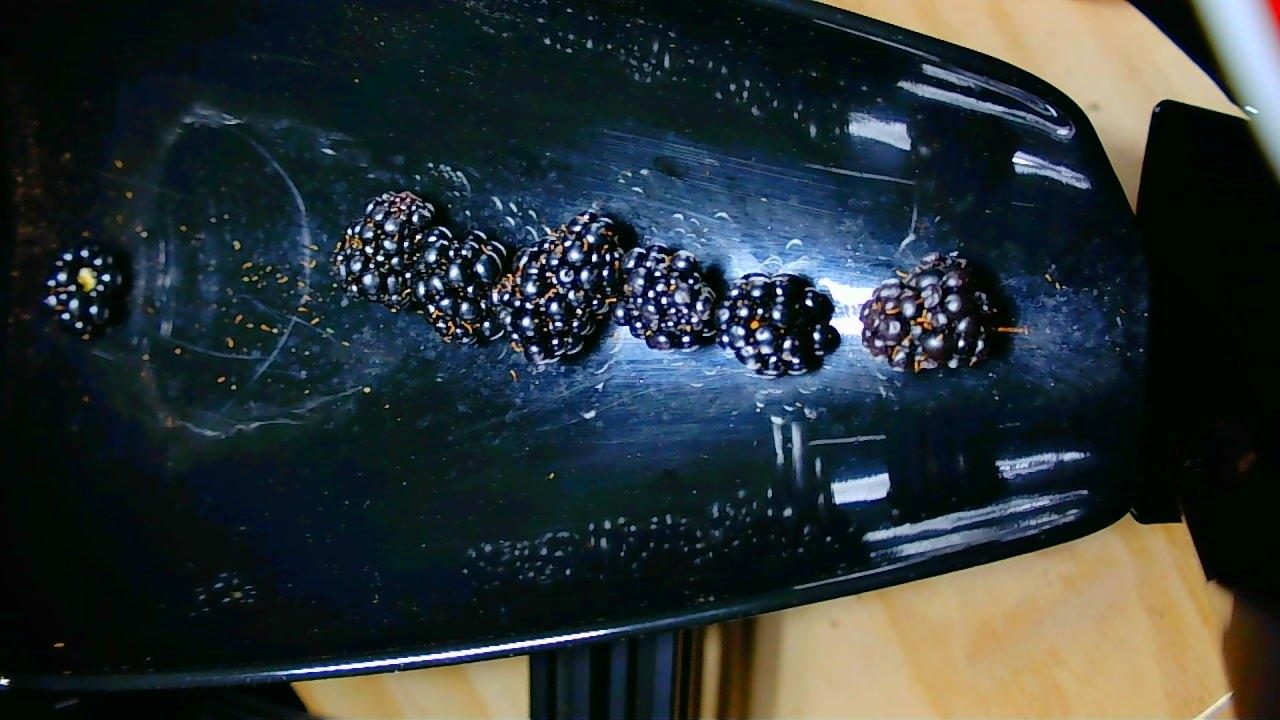berry: (862, 250, 1014, 376), (496, 212, 616, 367), (329, 190, 436, 309), (718, 272, 836, 378), (414, 231, 509, 342), (622, 245, 722, 349), (41, 240, 126, 342)
